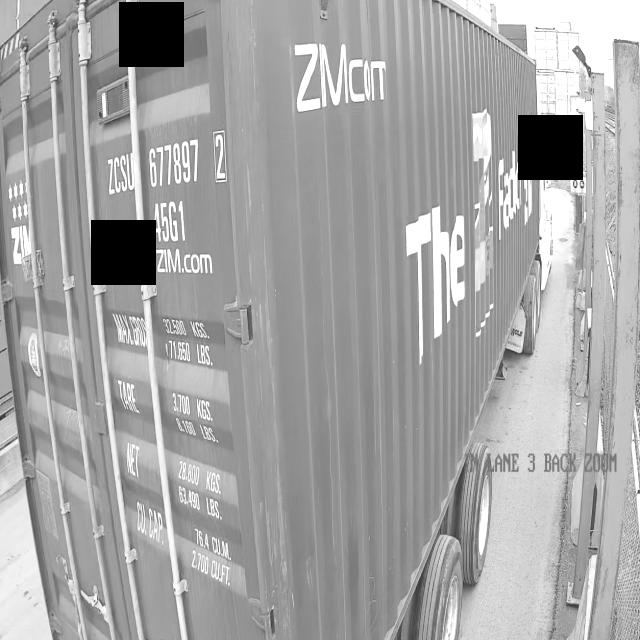container_company_logo: (8, 216, 37, 267)
container_number: (105, 125, 232, 247)
other_container_info: (110, 307, 242, 594)
truck_with_container: (0, 0, 559, 640)
